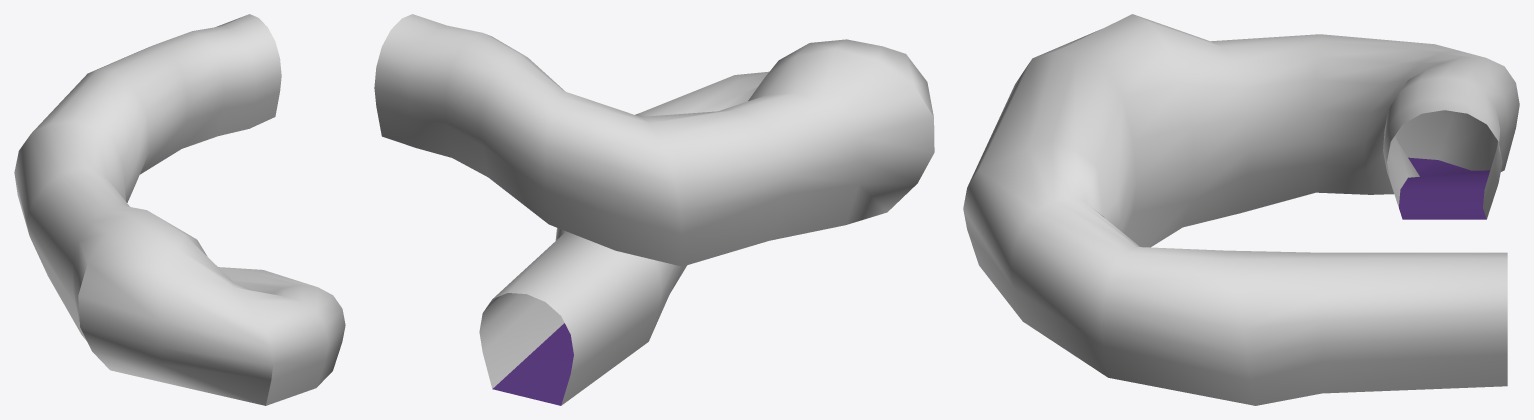
Rendered from cave_ladder1.fbx.
3 views of the same model, side by side, from view 1: azimuth 30°, elevation 25°; view 2: azimuth 150°, elevation 25°; view 3: azimuth 270°, elevation 25° (orthographic). The views are drawn at different scales.
Visible parts, largest first — view 1: cave_ladder1; view 2: cave_ladder1; view 3: cave_ladder1.
Part boxes in pixels (x1=…): cave_ladder1: x1=14, y1=14, x2=345, y2=405; cave_ladder1: x1=374, y1=14, x2=934, y2=405; cave_ladder1: x1=963, y1=14, x2=1519, y2=405.
Size of the model in its own units: 724 by 592 by 882.
